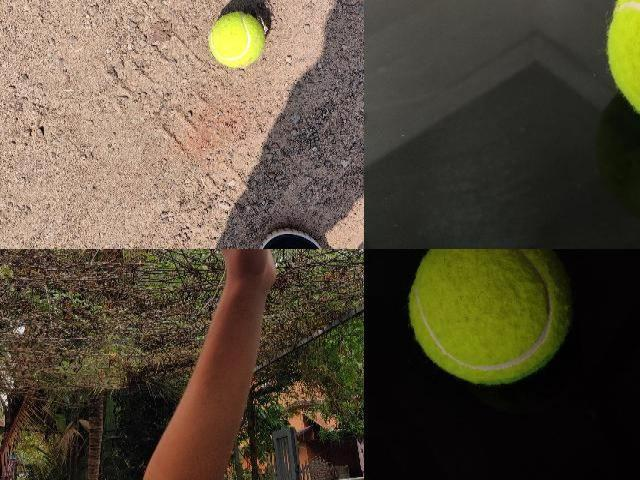tennis-ball: (408, 249, 574, 385), (609, 0, 640, 112), (208, 11, 264, 67)
